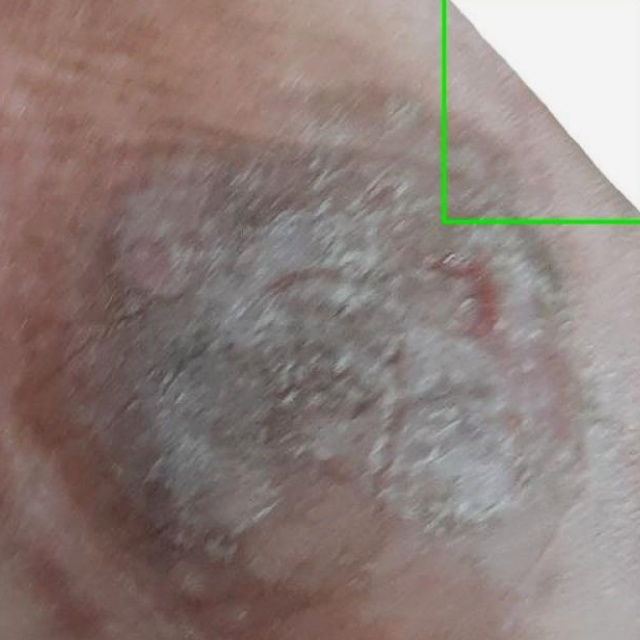Contact Dermatitis: (444, 0, 639, 221)
